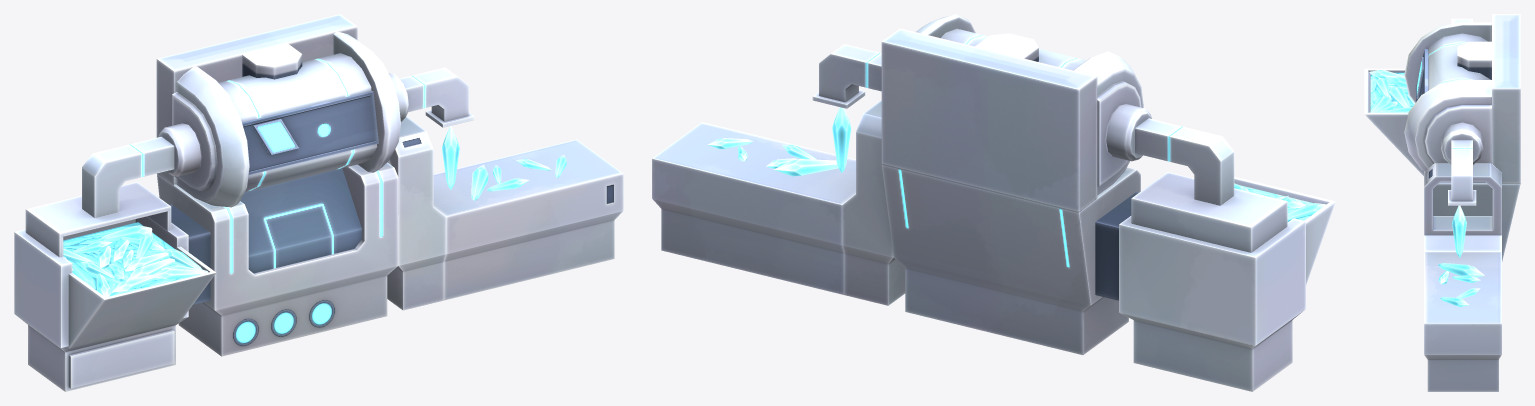
Rendered from obj_lab01.gltf.
The picture shows the model from 3 angles, left to right: view 1: azimuth 30°, elevation 25°; view 2: azimuth 150°, elevation 25°; view 3: azimuth 270°, elevation 25°; orthographic projection. The views are drawn at different scales.
Parts seen in each view (by area): view 1: obj_lab01; view 2: obj_lab01; view 3: obj_lab01.
Part boxes in pixels (x1,y1,x2,y2): obj_lab01: [14, 14, 623, 391]; obj_lab01: [652, 14, 1335, 391]; obj_lab01: [1364, 14, 1520, 391].
Size of what is drawn, in the model's own units: 7.7 by 3.39 by 2.22.
Materials: 3 (3 with a texture image).
